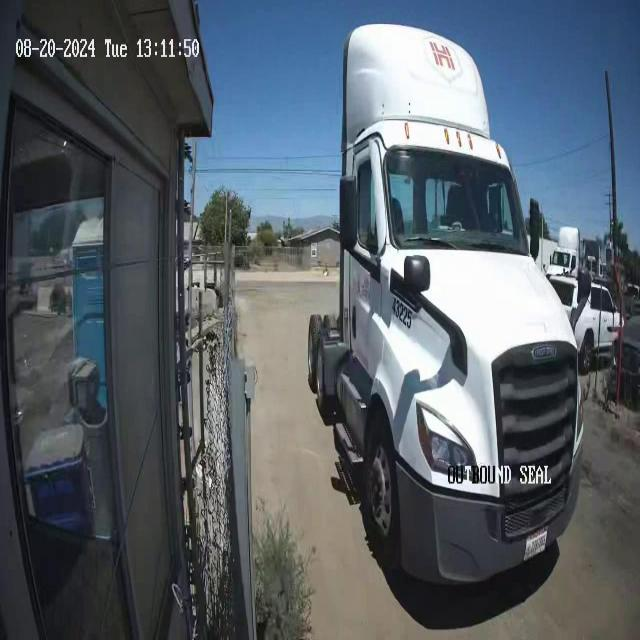TRUCK_IN: (306, 21, 586, 589)
